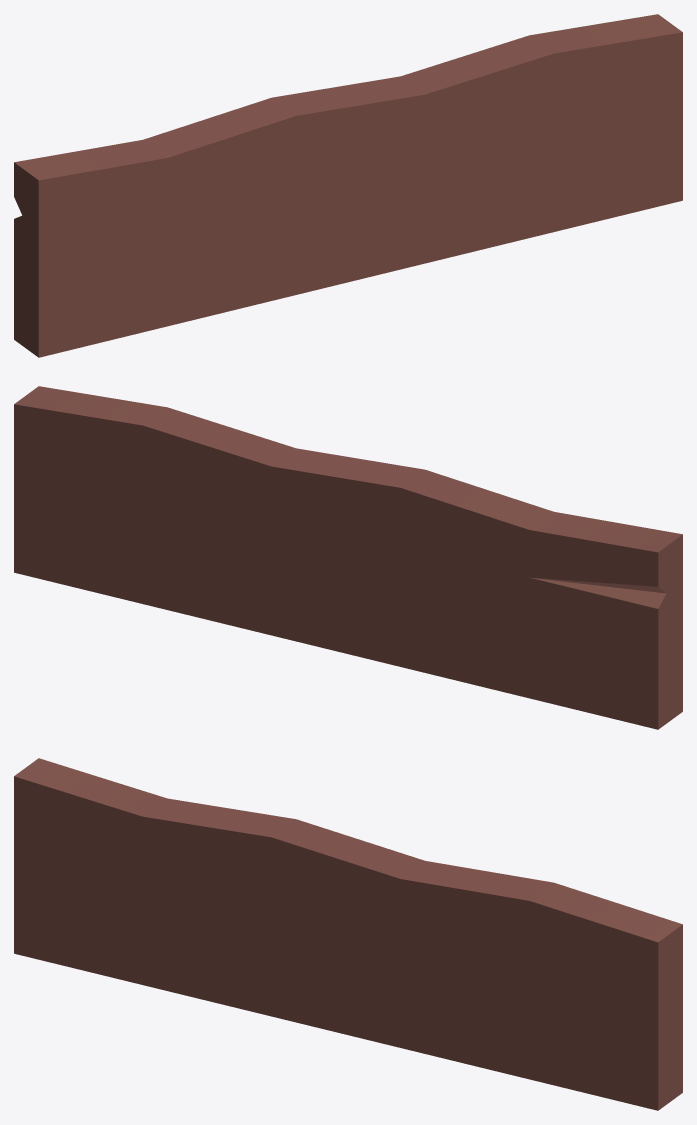
File: plant_box_plank_002.fbx
3 views of the same model, one above another, from view 1: azimuth 30°, elevation 25°; view 2: azimuth 150°, elevation 25°; view 3: azimuth 330°, elevation 25° (orthographic).
Visible parts, largest first — view 1: plantbox.plank.002; view 2: plantbox.plank.002; view 3: plantbox.plank.002.
Part boxes in pixels (bbox=[...]): plantbox.plank.002: bbox=[14, 14, 682, 357]; plantbox.plank.002: bbox=[14, 386, 682, 729]; plantbox.plank.002: bbox=[14, 758, 682, 1110].
Bounding box in the file's own units: 118 × 31.3 × 7.86.
